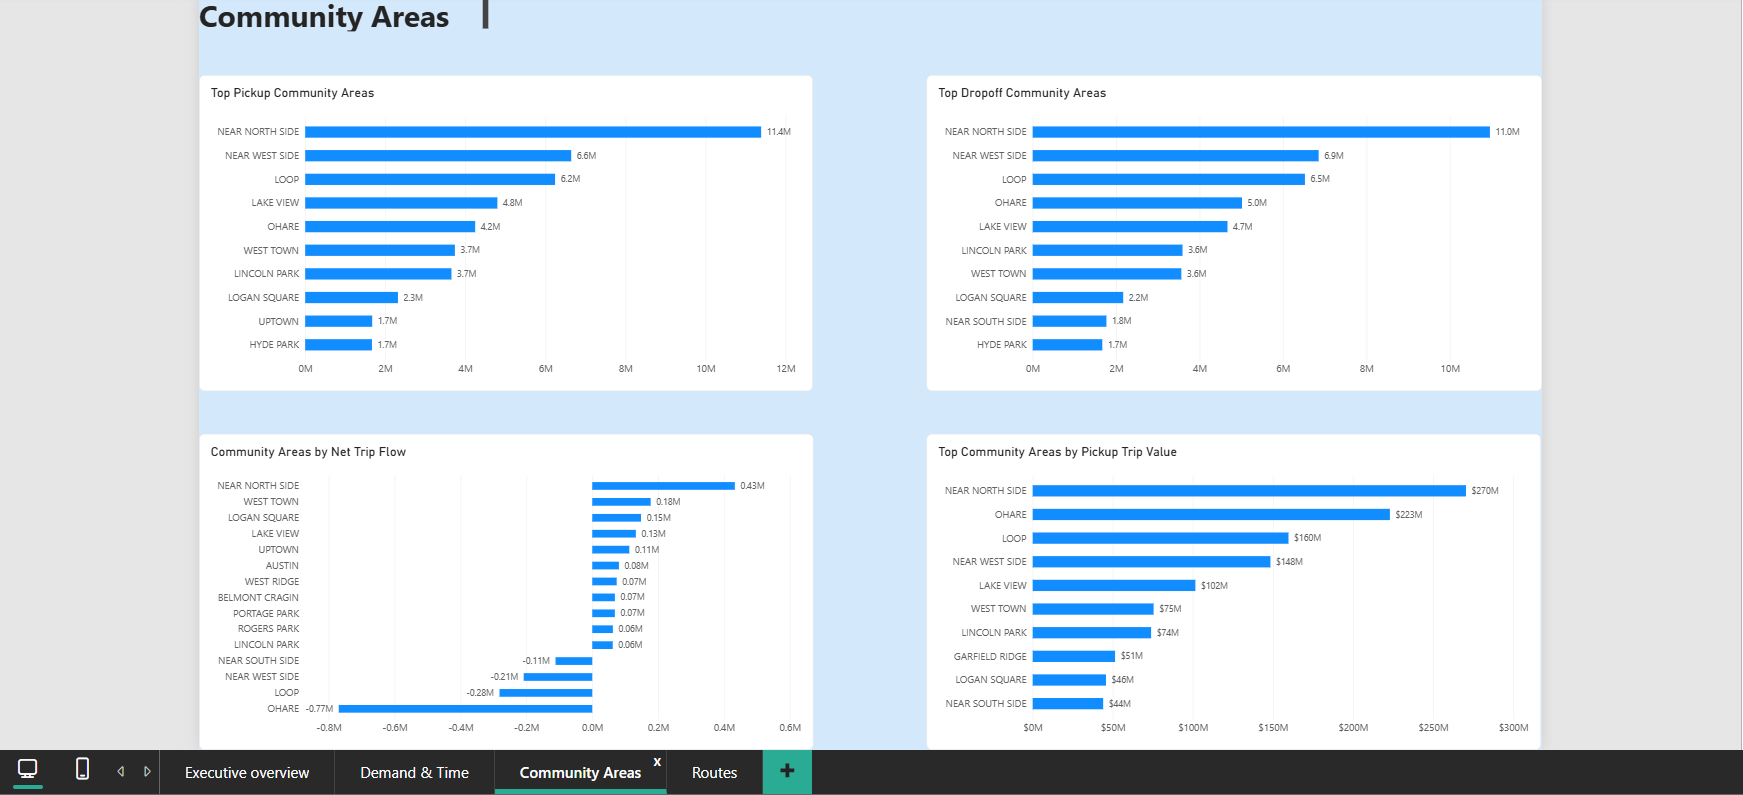

Layout of this report page (visuals, bound fields, positions):
{"tool":"powerbi","page":{"name":"Community Areas","canvas":[1920,1080],"ordinal":2},"visuals":[{"type":"textbox","box":[0,0,413.9,51.7],"z":0},{"type":"barChart","title":"Top Pickup Community Areas","fields":{"Category":["community_area_metrics.community_area_name"],"Y":["Sum(community_area_metrics.pickup_trips)"]},"box":[0,114.8,877.8,451.9],"z":1000},{"type":"barChart","title":"Top Dropoff Community Areas","fields":{"Category":["community_area_metrics.community_area_name"],"Y":["Sum(community_area_metrics.dropoff_trips)"]},"box":[1040.7,114.8,879.6,451.9],"z":2000},{"type":"barChart","title":"Community Areas by Net Trip Flow","fields":{"Category":["community_area_metrics.community_area_name"],"Y":["Sum(community_area_metrics.net_trip_flow)"]},"box":[0,627.8,878,452],"z":3000},{"type":"barChart","title":"Top Community Areas by Pickup Trip Value","fields":{"Category":["community_area_metrics.community_area_name"],"Y":["community_area_metrics.Pickup Trip Value"]},"box":[1040.7,627.8,878,452],"z":4000}]}

Visuals, with their boxes on the page's 1920x1080 design canvas (x1, y1, x2, y2). These are canvas units, not pixel positions in the 1743x795 screenshot, which may show the page scaled, cropped or inside an application window:
textbox: 0, 0, 414, 52
"Top Pickup Community Areas" barChart: 0, 115, 878, 567
"Top Dropoff Community Areas" barChart: 1041, 115, 1920, 567
"Community Areas by Net Trip Flow" barChart: 0, 628, 878, 1080
"Top Community Areas by Pickup Trip Value" barChart: 1041, 628, 1919, 1080
